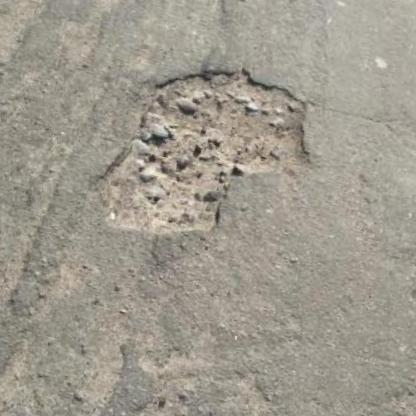pothole: (83, 36, 334, 276)
